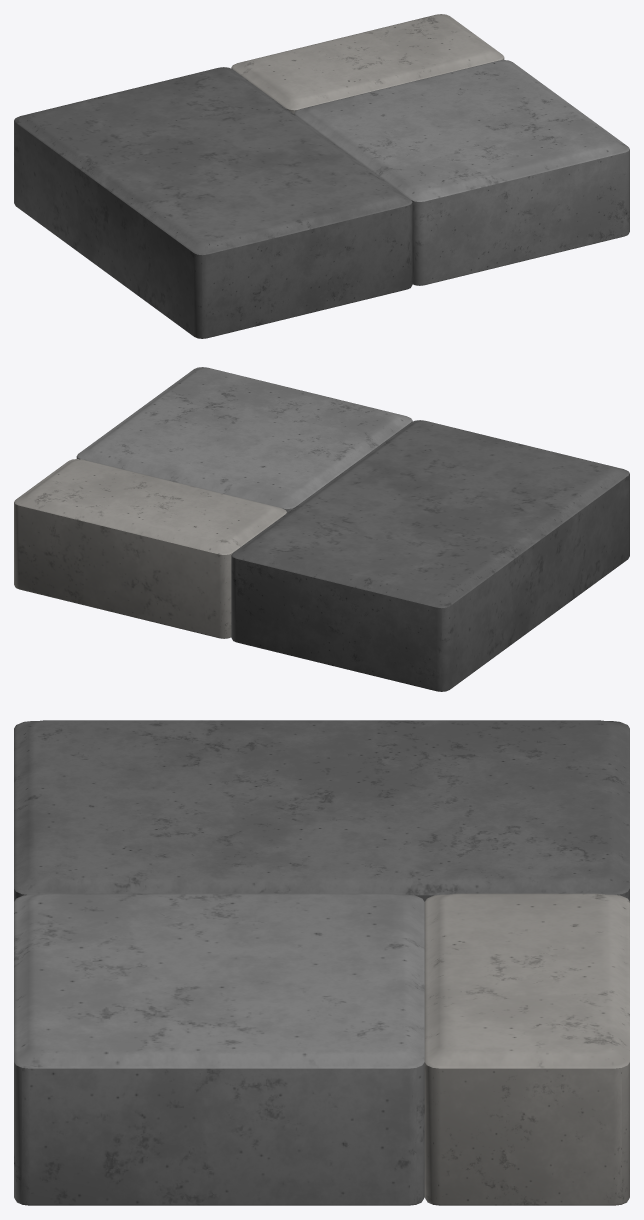
The model's file is family.glb.
The picture shows the model from 3 angles, top to bottom: view 1: azimuth 30°, elevation 25°; view 2: azimuth 150°, elevation 25°; view 3: azimuth 270°, elevation 25°; orthographic projection. The views are drawn at different scales.
Parts seen in each view (by area): view 1: Heritage Regular.001, Heritage Square.001, Heritage Half.001; view 2: Heritage Regular.001, Heritage Half.001, Heritage Square.001; view 3: Heritage Square.001, Heritage Regular.001, Heritage Half.001.
Boxes of the visible parts, box(x1,y1,x2,y2) form: Heritage Regular.001: box(14, 67, 412, 338); Heritage Square.001: box(294, 60, 629, 285); Heritage Half.001: box(231, 14, 504, 113); Heritage Regular.001: box(231, 420, 629, 691); Heritage Half.001: box(14, 459, 286, 638); Heritage Square.001: box(76, 367, 412, 512); Heritage Square.001: box(14, 893, 424, 1205); Heritage Regular.001: box(14, 720, 629, 901); Heritage Half.001: box(424, 893, 629, 1205).
Size of the model in its own units: 0.3048 by 0.0603 by 0.2286.
3 materials, 3 textured.
